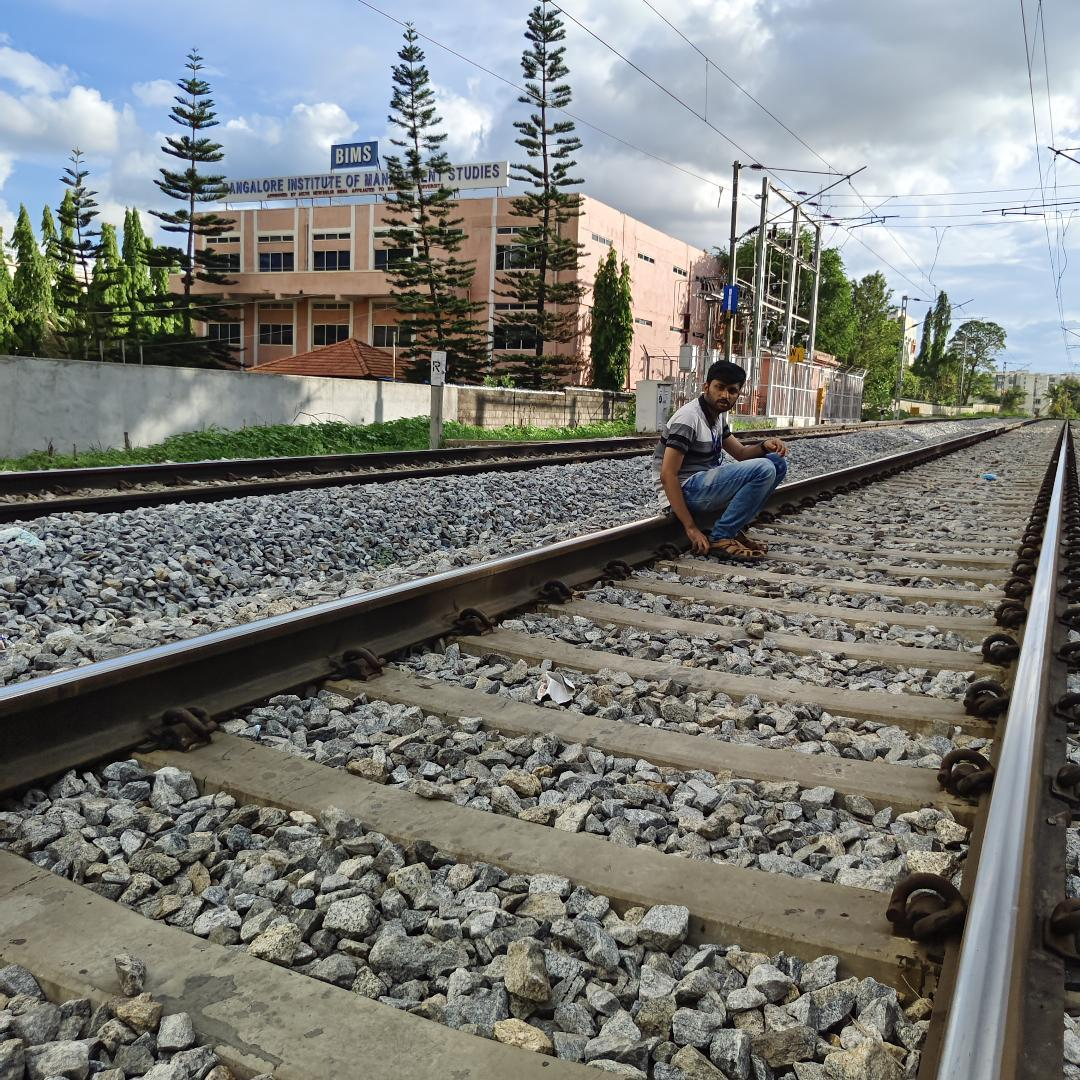sitting: (644, 359, 798, 563)
